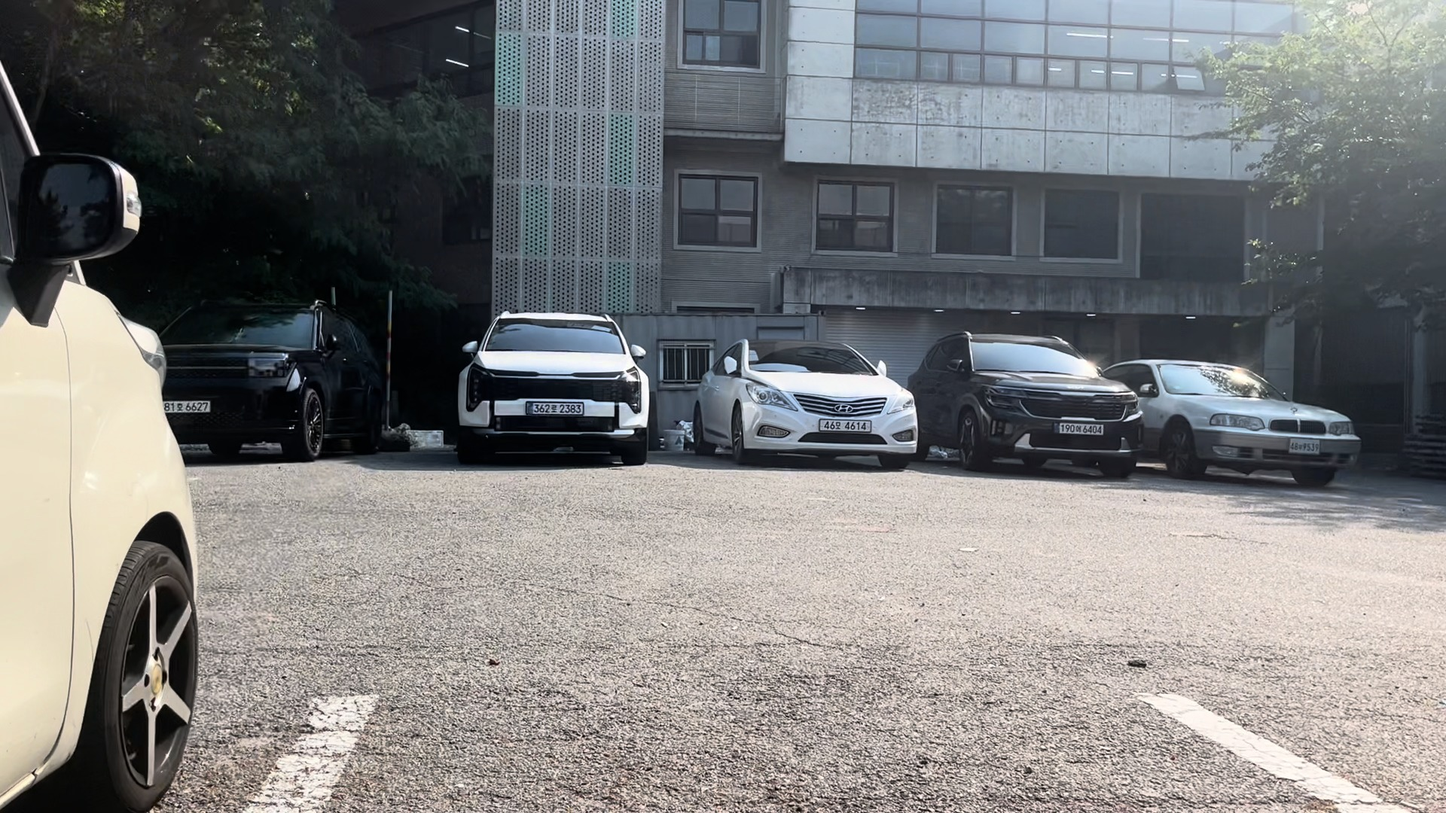license_plate: (524, 402, 584, 416), (817, 419, 874, 432), (1056, 421, 1106, 434), (163, 400, 212, 413), (1287, 440, 1320, 454)
side_mirror: (12, 154, 137, 260), (325, 332, 340, 351)
